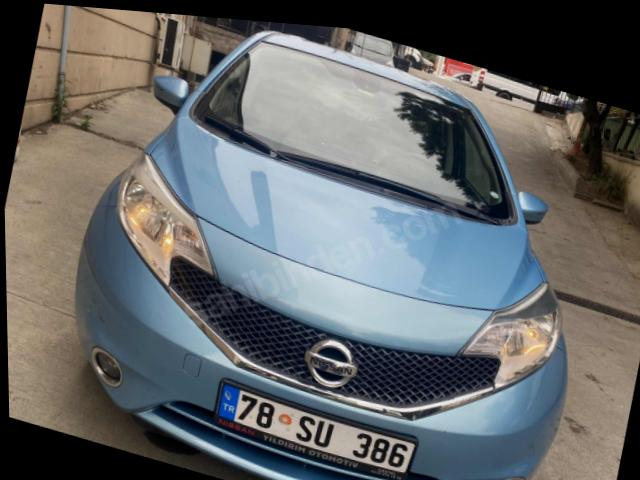plaka: (215, 382, 415, 480)
